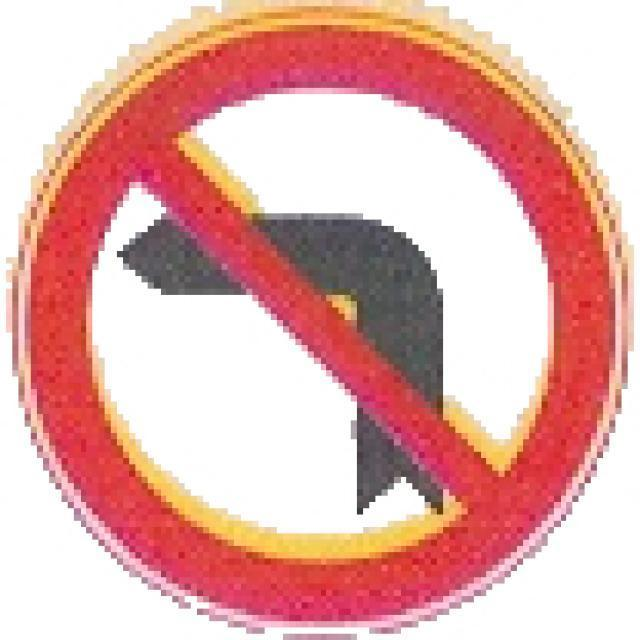left turn prohibited: (18, 16, 615, 620)
